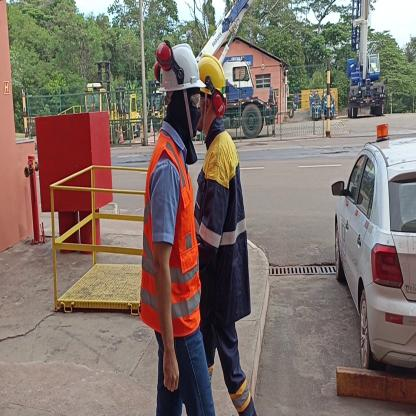Balaclava: (164, 94, 202, 138)
C_eletrica: (198, 138, 244, 330)
Capacete: (158, 40, 202, 90), (199, 54, 231, 93)
colete: (140, 132, 201, 334)
